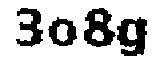3: (8, 5, 46, 49)
8: (79, 5, 115, 50)
g: (114, 16, 149, 60)
o: (46, 18, 77, 47)
